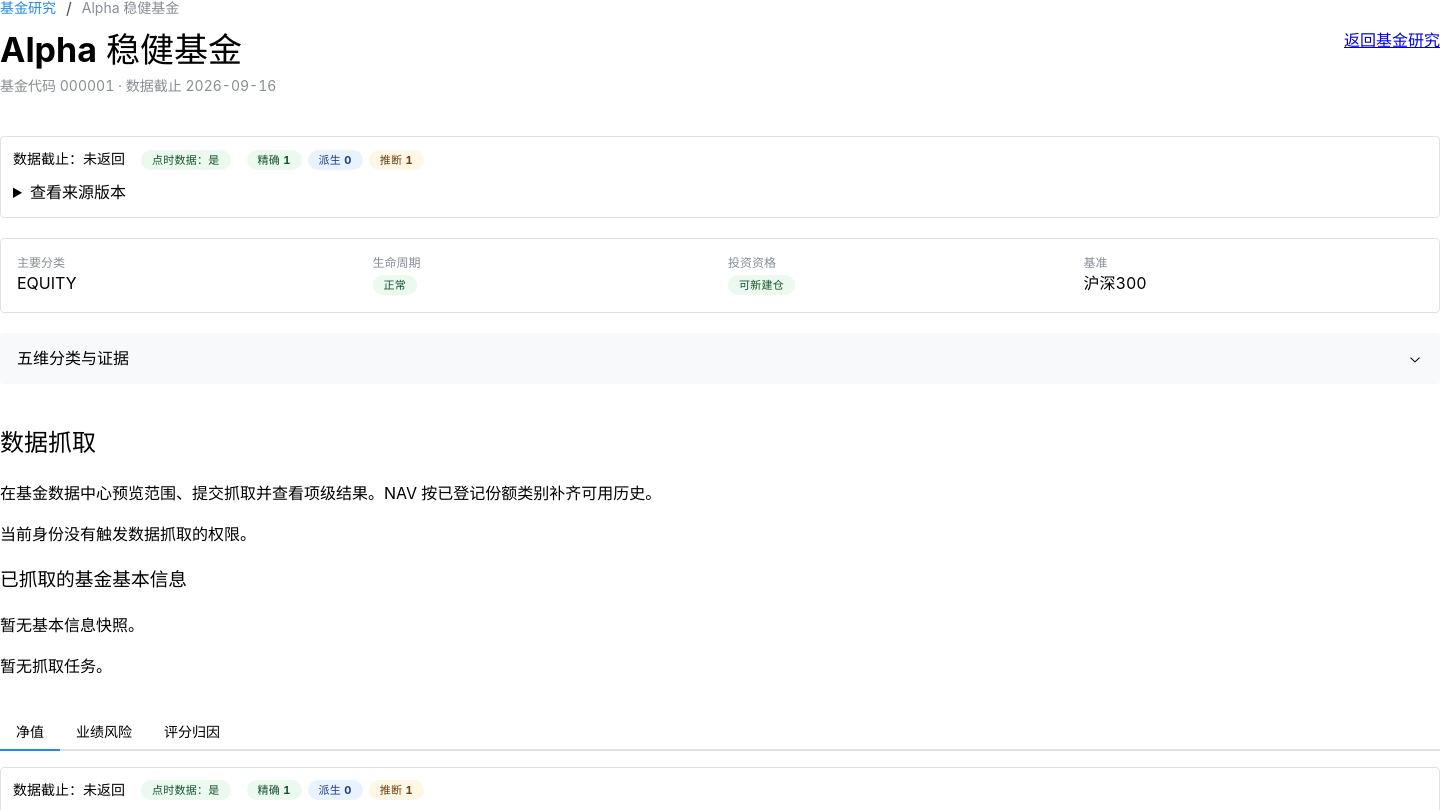
Test case: FundDetailPage › normalizes an unknown evaluation status and keeps insufficient-sample reasons
Check: the heading "Alpha 稳健基金" is shown, box [0,28,276,72]
Click the tab "业绩风险".
click(104, 733)  # box [60,715,148,751]
(page scrolled)
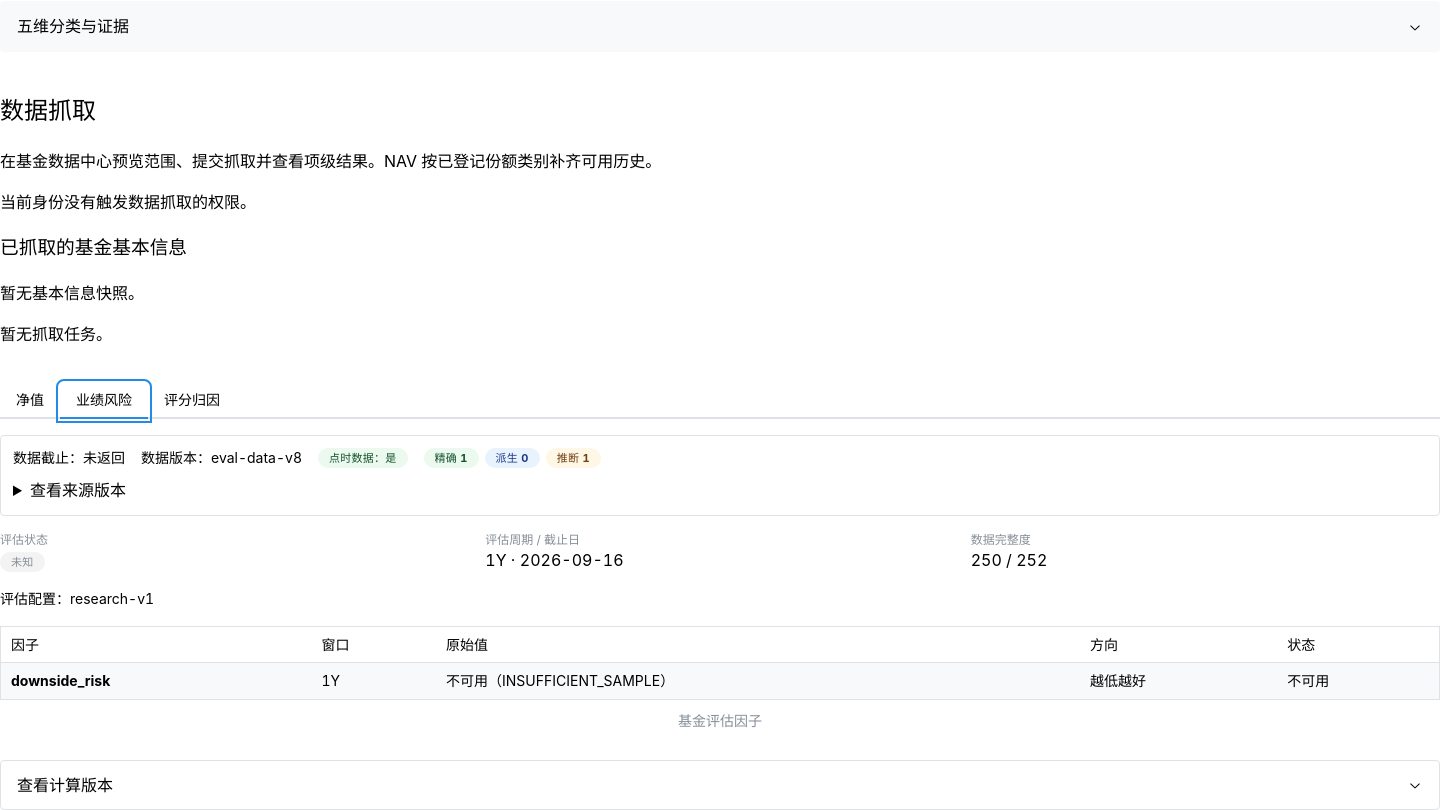
Check: the text "未知" is shown, box [11,554,34,572]
Check: the text "不可用（INSUFFICIENT_SAMPLE）" is shown, box [446,672,674,689]
Click the button "查看计算版本".
click(65, 785)  # box [1,761,1439,809]
(page scrolled)
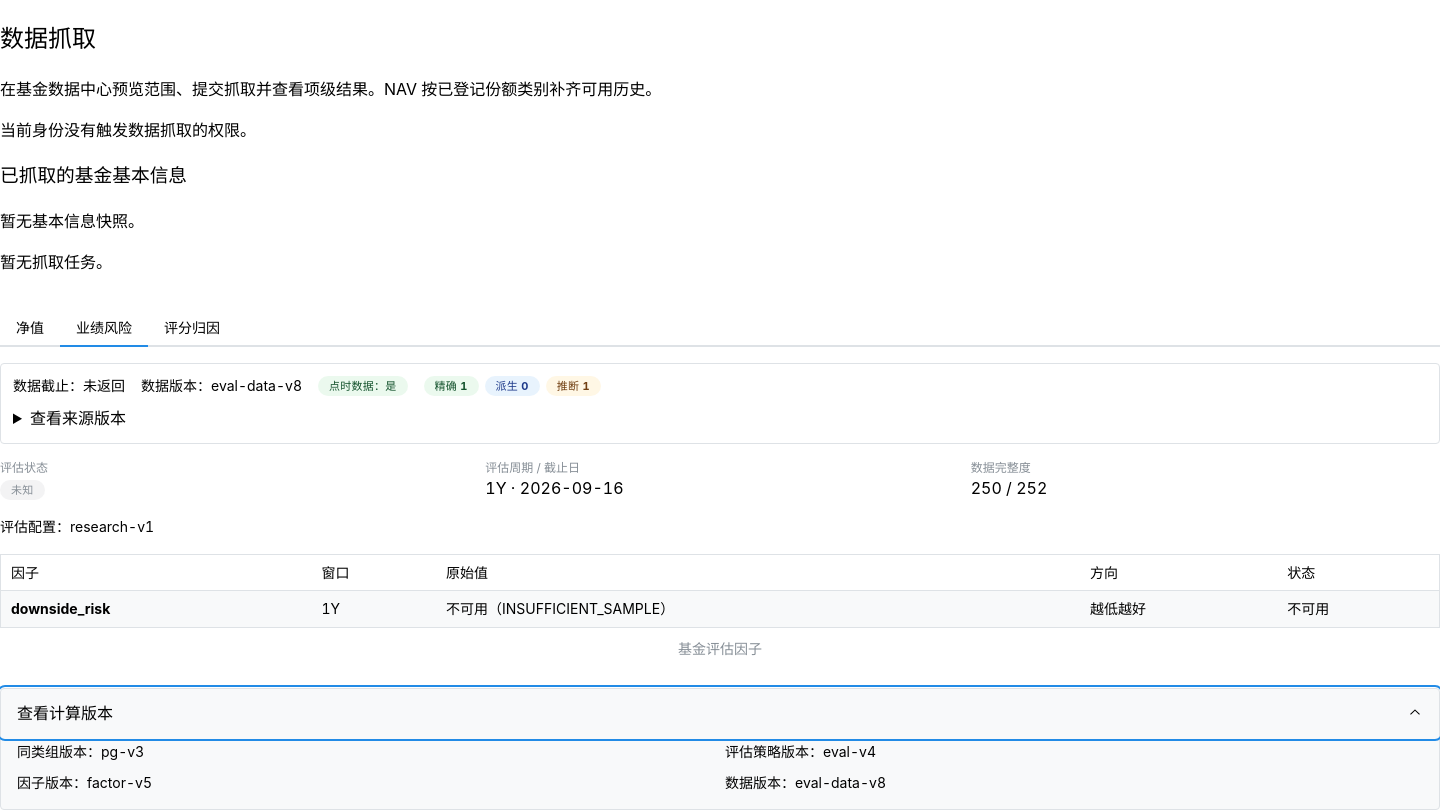
Check: the text "评估策略版本：eval-v4" is shown, box [725,743,876,760]
